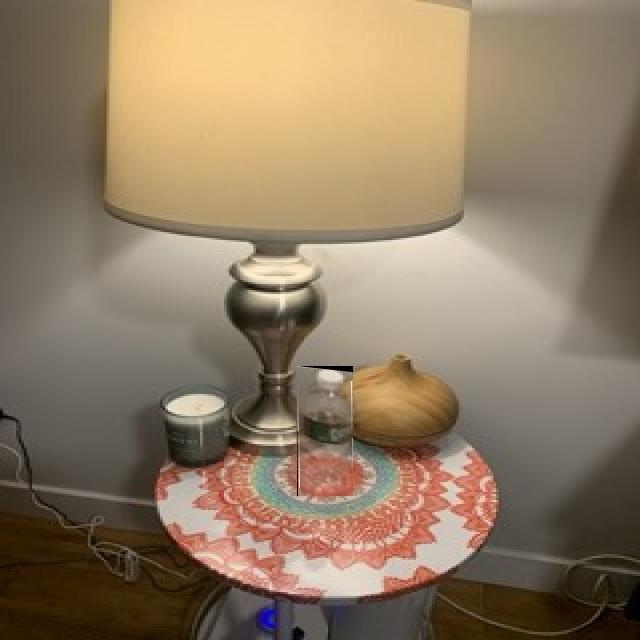water_bottle: (297, 366, 353, 496)
